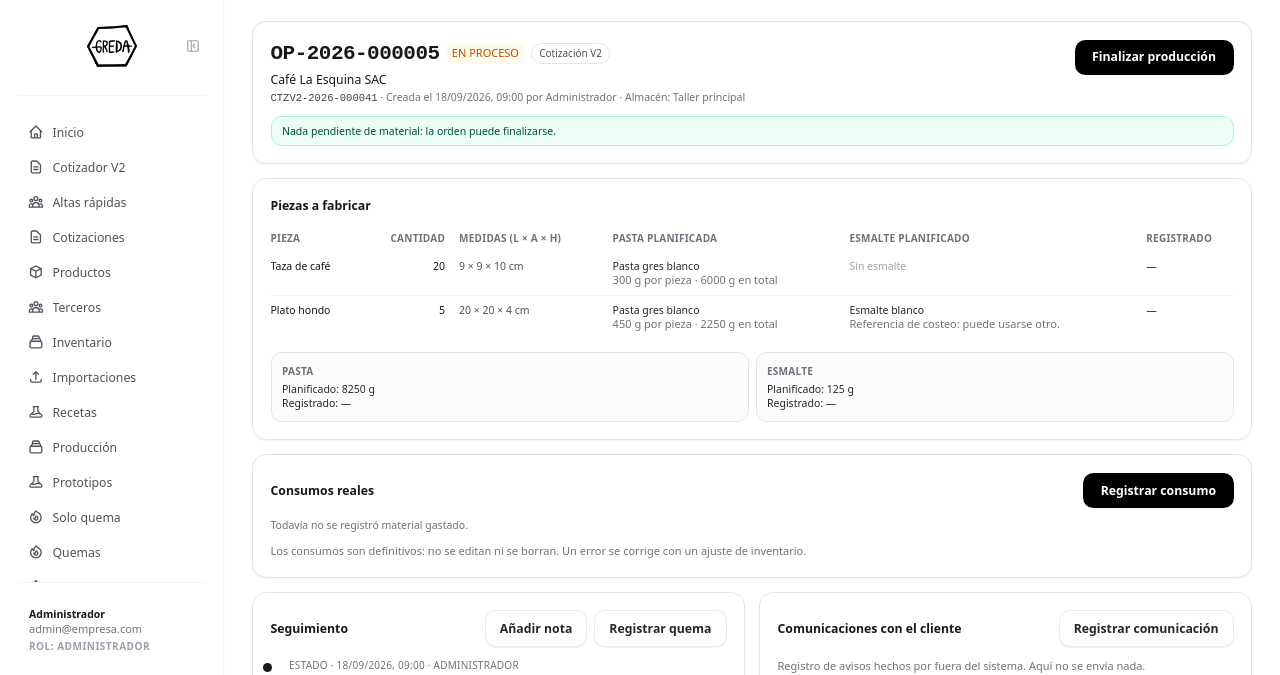
ficha de una orden V2 › si el backend rechaza finalizar, se traduce lo que falta
Click the button "Finalizar producción" at (1154,57), box [1075, 40, 1234, 74]
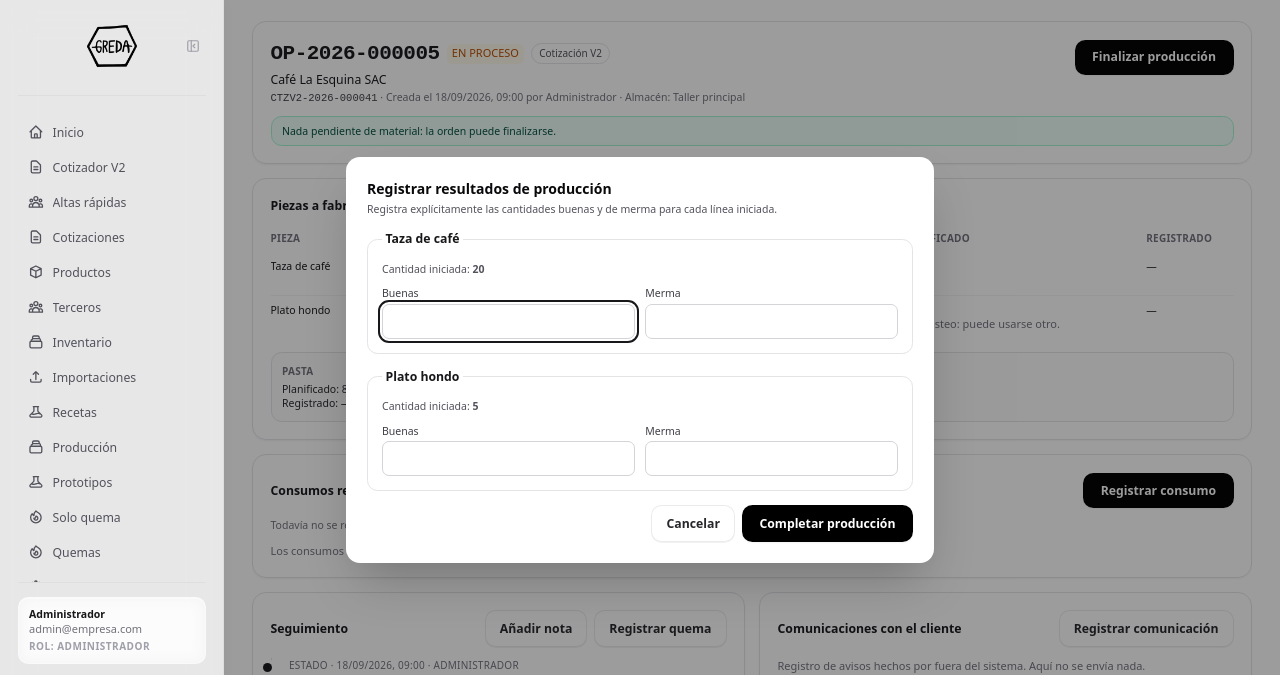
Type "20" into the 1st field labelled "Buenas" at (508,321), box [382, 304, 635, 339]
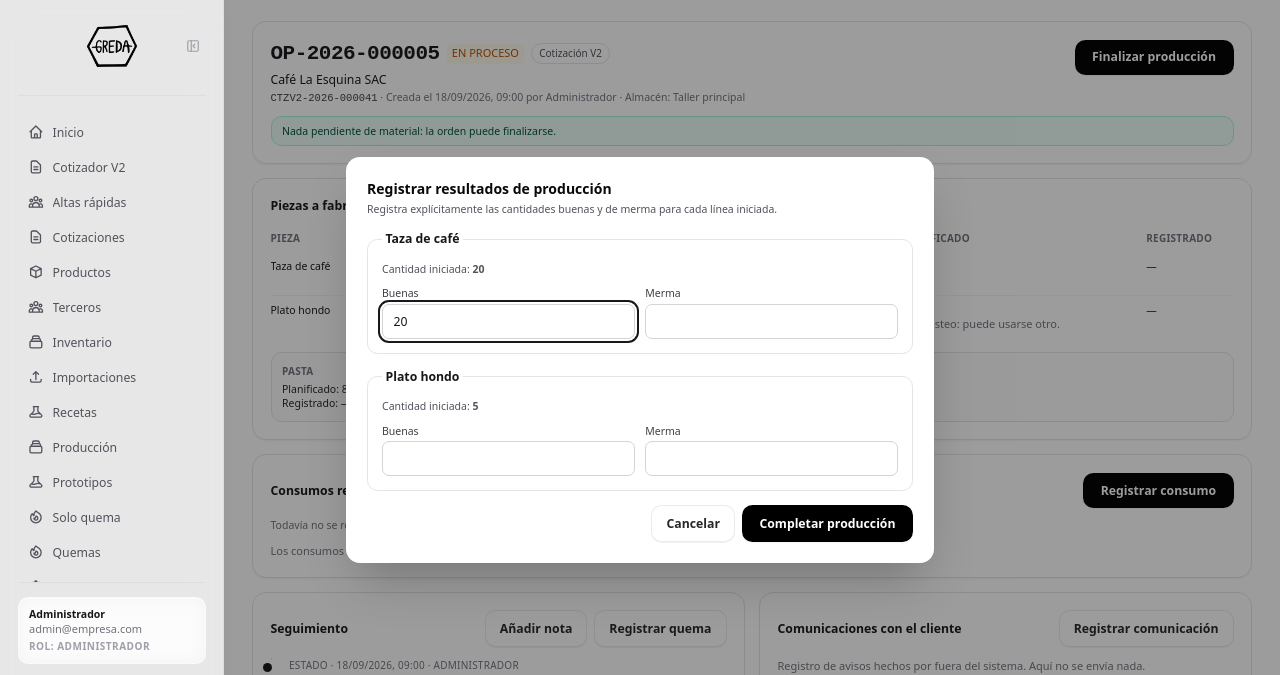
Type "0" into the 1st field labelled "Merma" at (772,321), box [645, 304, 898, 339]
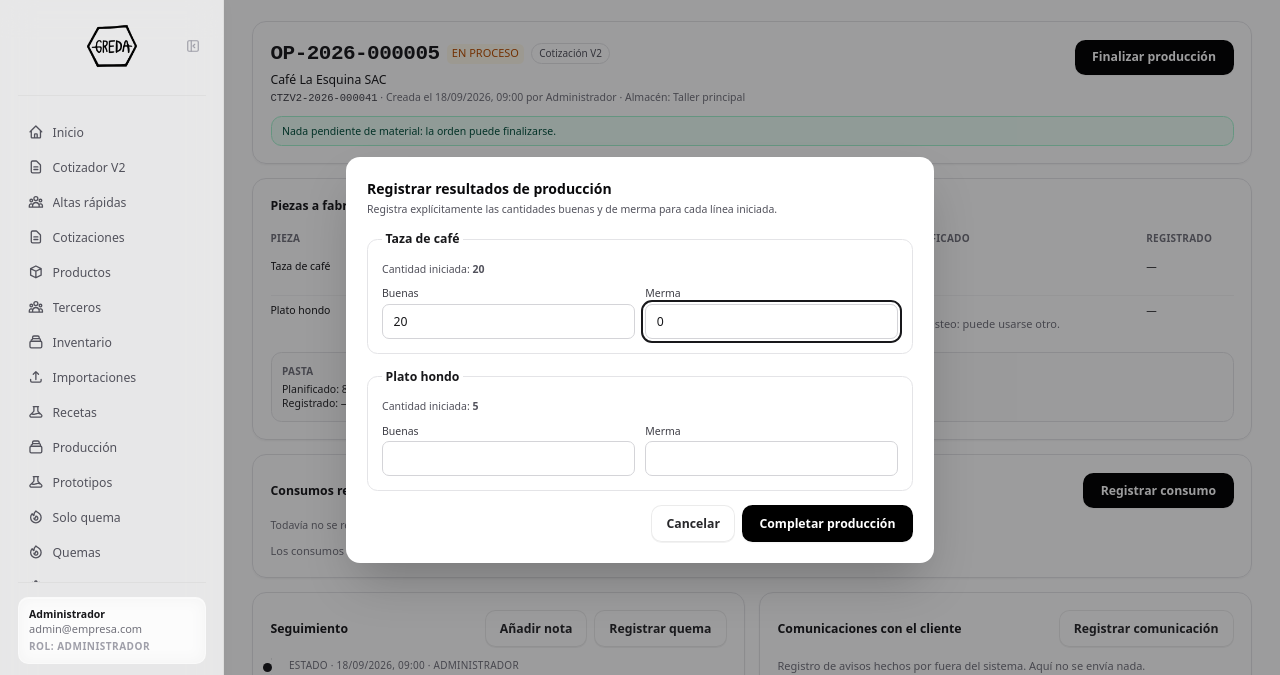
Type "5" into the 2nd field labelled "Buenas" at (508,459), box [382, 441, 635, 476]
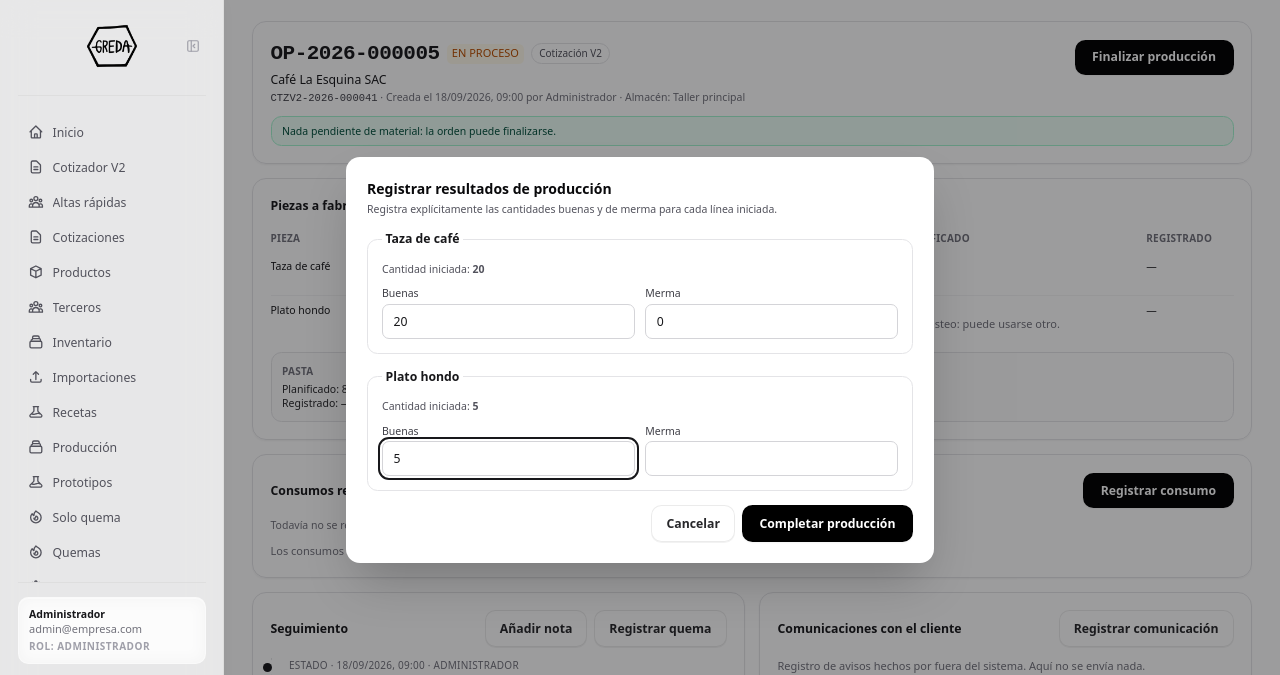
Type "0" into the 2nd field labelled "Merma" at (772,459), box [645, 441, 898, 476]
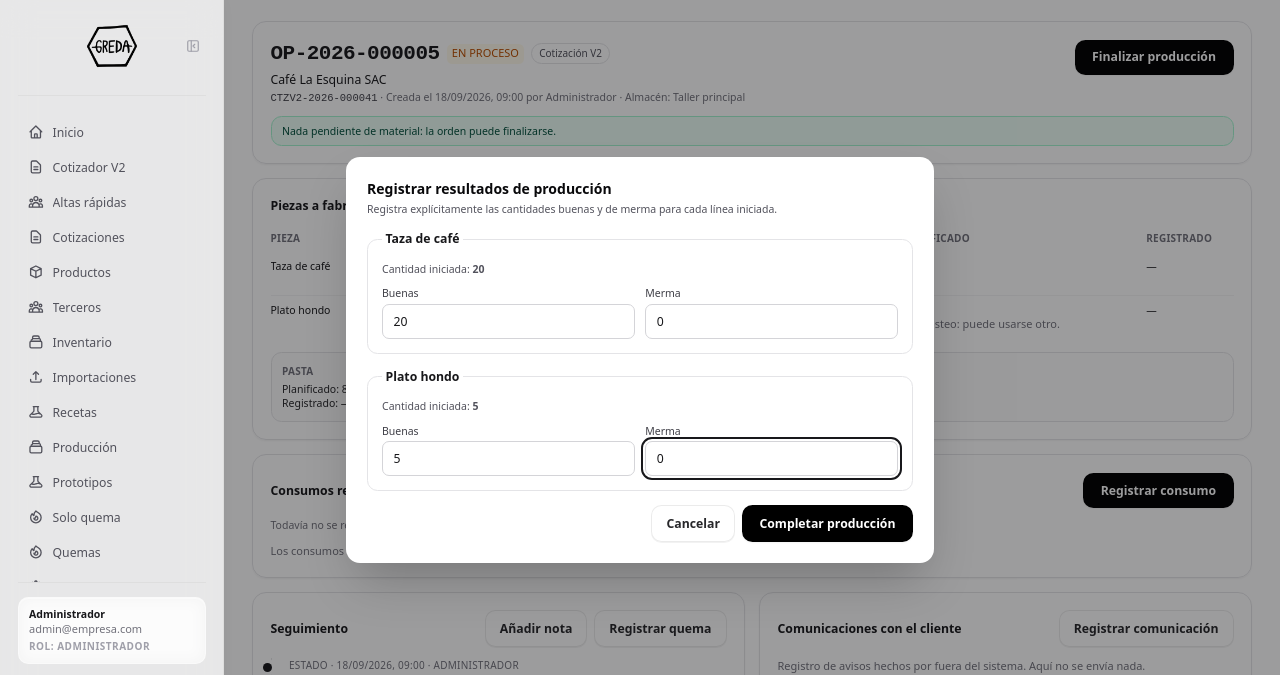
Click the button "Completar producción" at (828,524), box [742, 505, 913, 542]
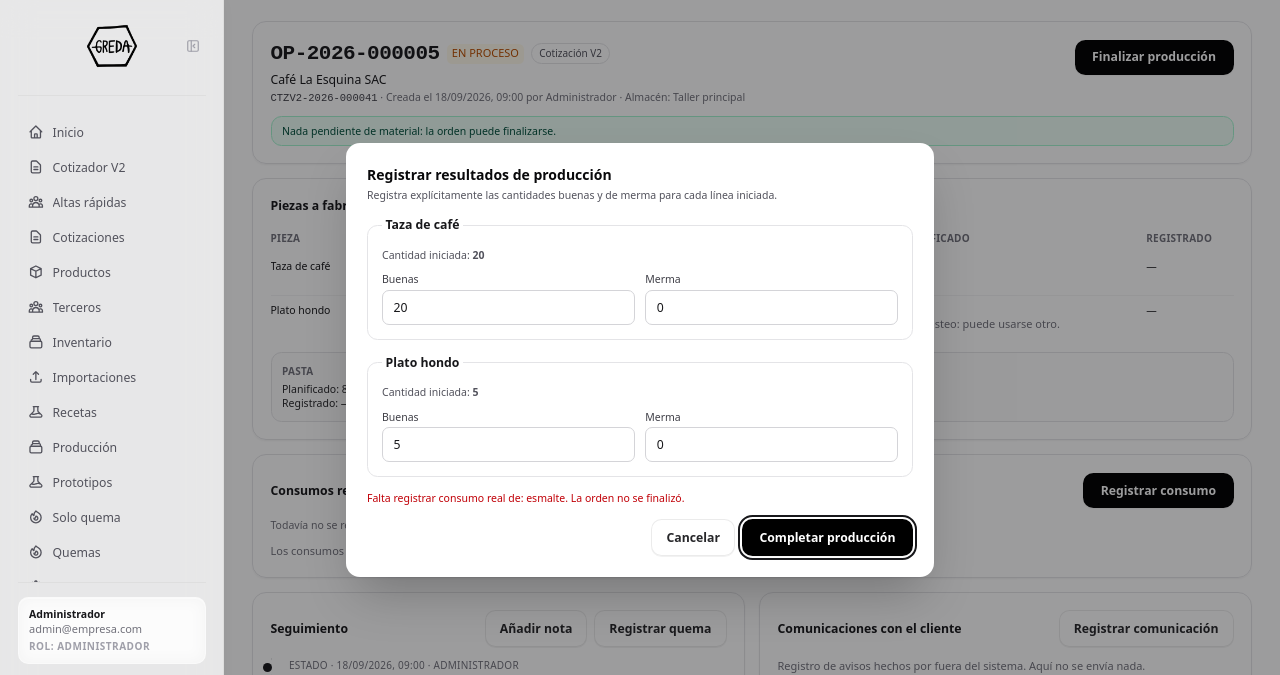
Check: the message shows "Falta registrar consumo real de: esmalte", box [367, 491, 684, 505]
